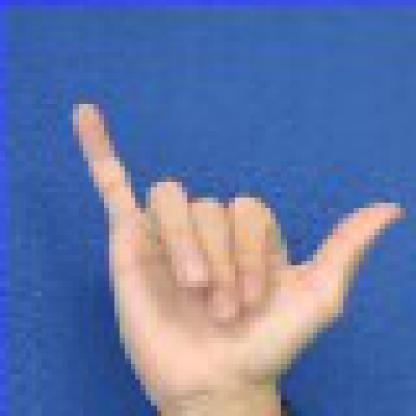six: (61, 87, 413, 415)
